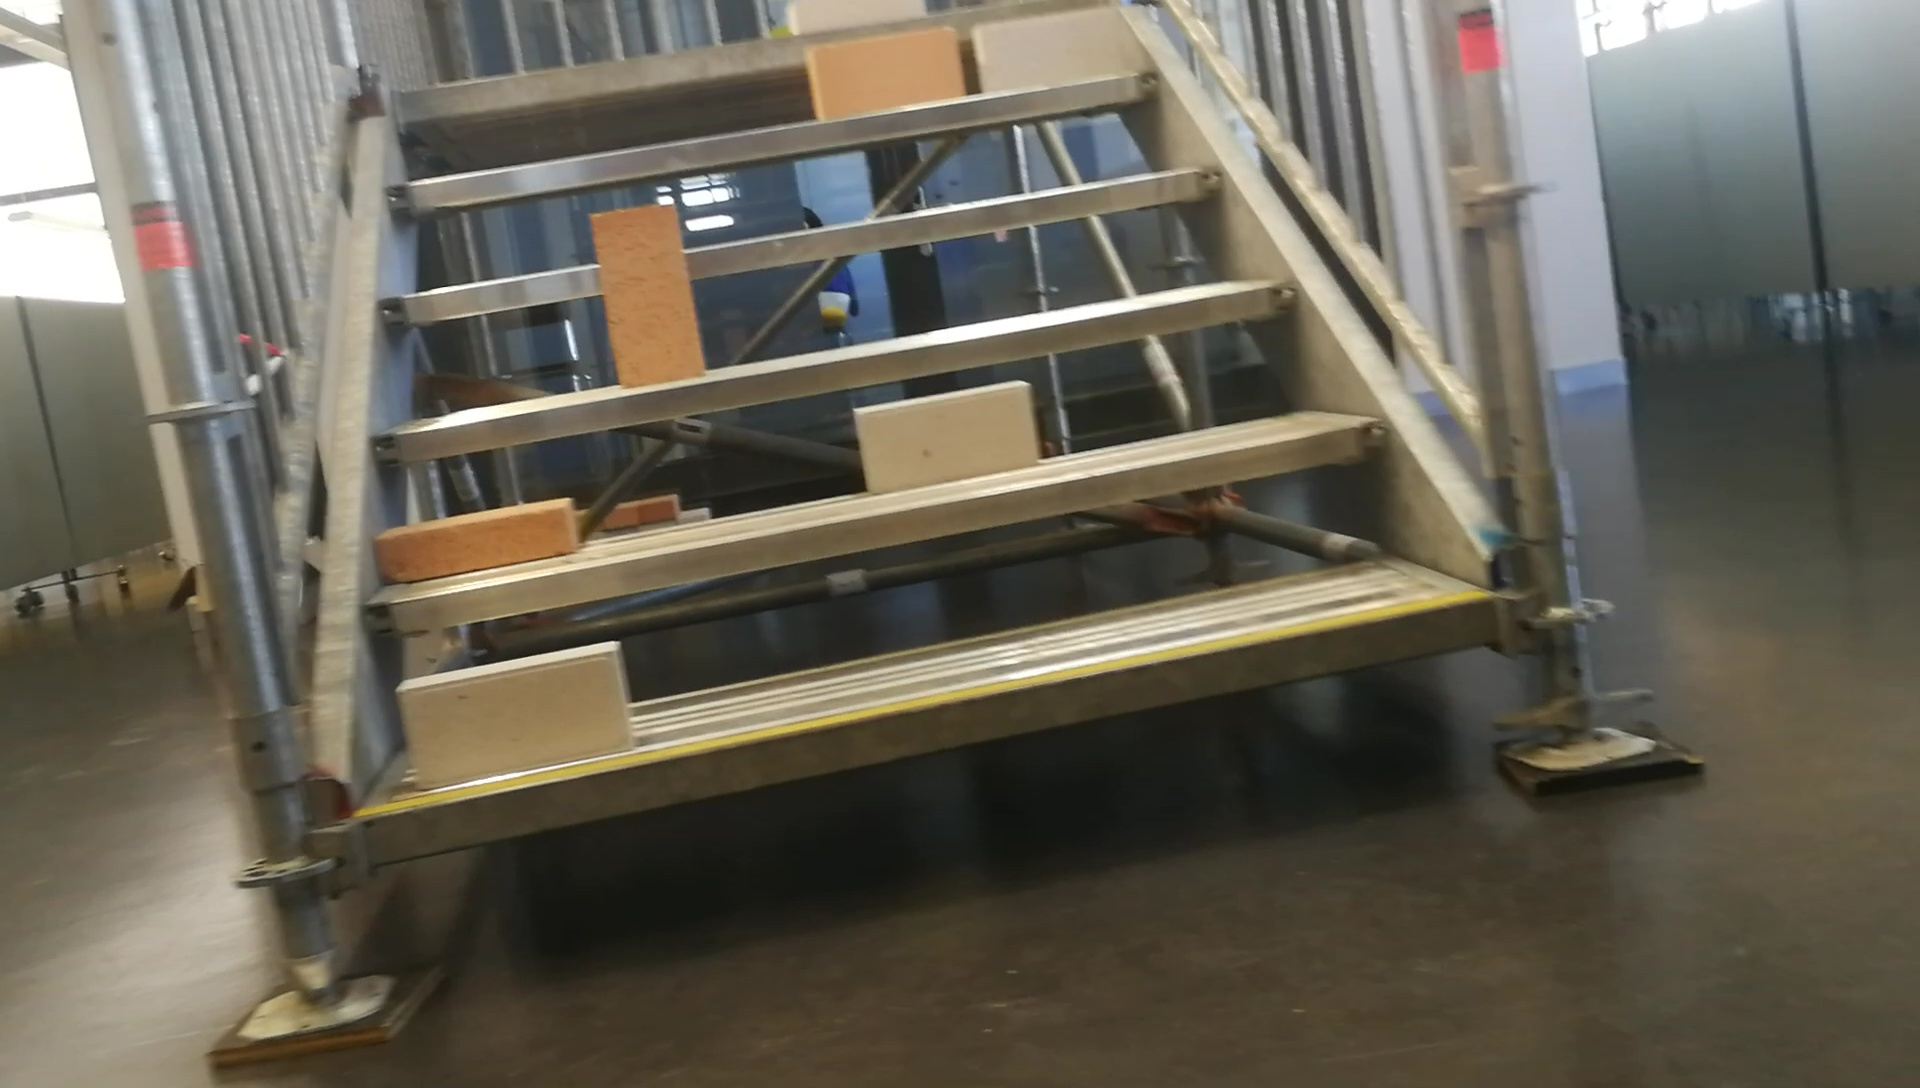brick: (401, 644, 632, 786), (852, 378, 1033, 496), (593, 203, 708, 386), (378, 497, 572, 578), (807, 26, 963, 125), (976, 8, 1112, 98), (789, 3, 924, 32)
edge: (365, 592, 1491, 860), (386, 419, 1375, 628), (371, 282, 1295, 454), (378, 165, 1220, 318), (392, 75, 1163, 204)
stairs: (210, 3, 1706, 1063)
steps: (349, 3, 1505, 892)
